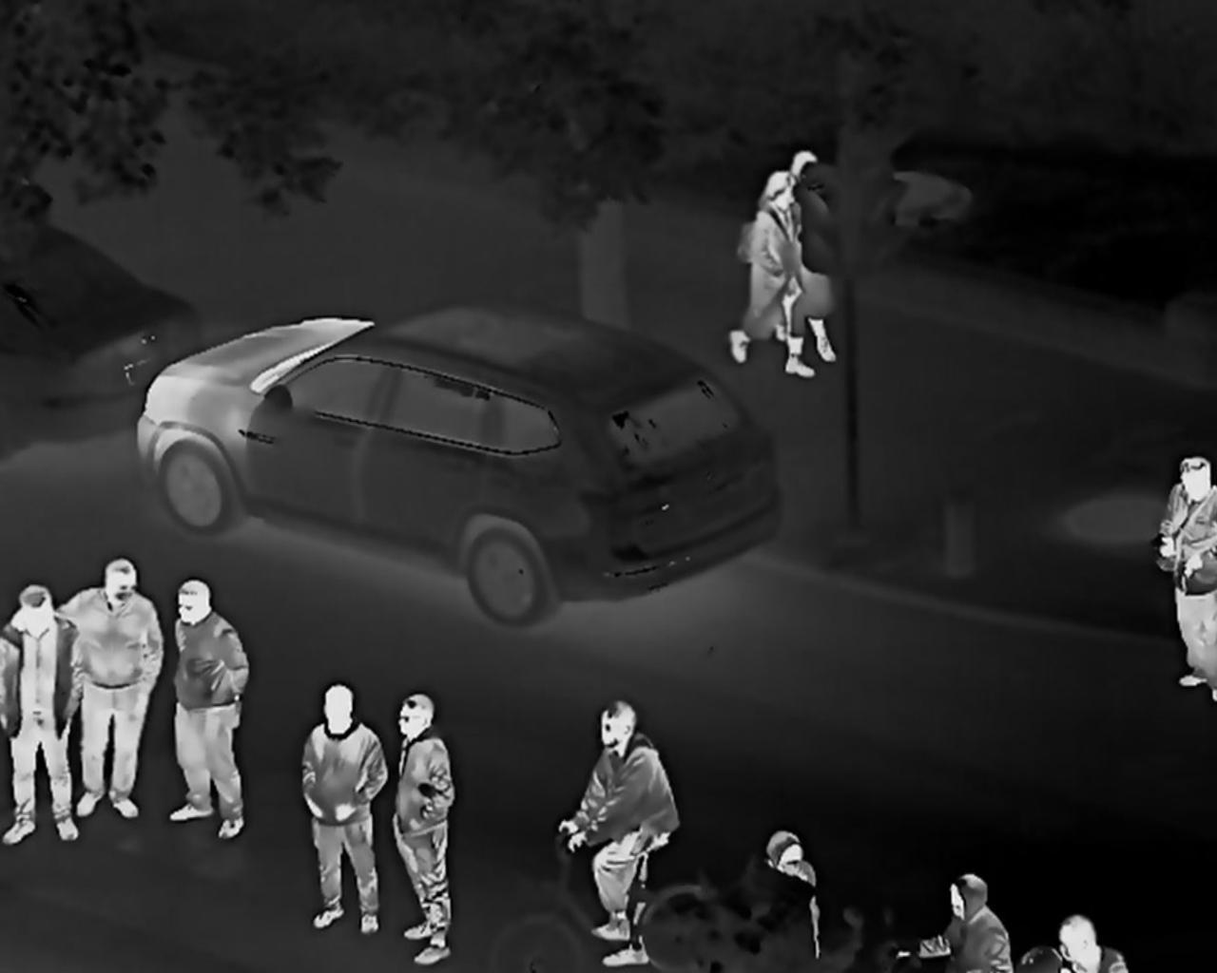person: (564, 675, 675, 973), (157, 561, 267, 856), (288, 667, 392, 961), (389, 668, 470, 973), (81, 540, 143, 844), (782, 129, 846, 405), (14, 576, 82, 834), (766, 830, 852, 973), (1171, 453, 1217, 711), (747, 160, 807, 353), (918, 874, 1004, 973), (1041, 905, 1124, 973)
